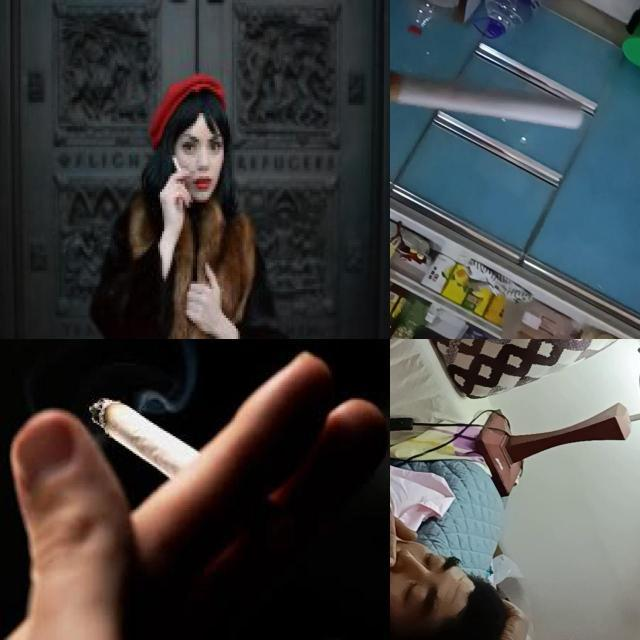cigarette: (90, 396, 224, 494), (390, 68, 584, 130), (170, 156, 183, 174)
